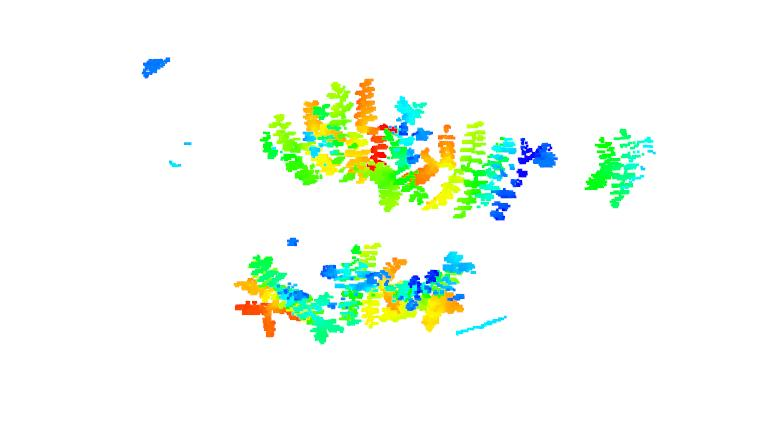chickpea: (415, 129, 556, 228), (314, 235, 404, 346), (342, 80, 411, 212), (254, 99, 338, 184), (585, 122, 659, 214), (236, 254, 313, 335), (404, 253, 482, 331)
